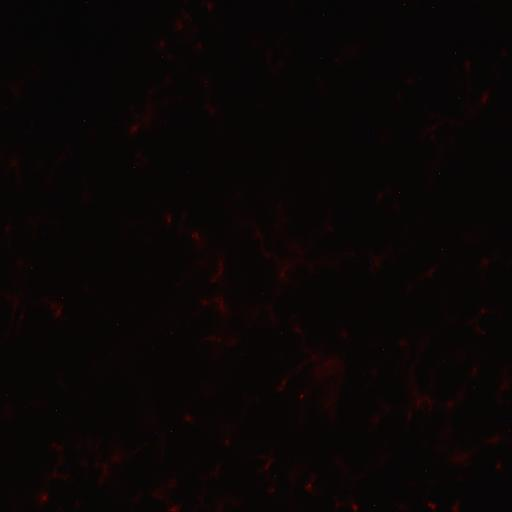microglia: (36, 442, 80, 502), (1, 62, 42, 107), (127, 90, 167, 136), (355, 241, 403, 279), (40, 142, 76, 188), (1, 290, 28, 340), (330, 38, 367, 70), (406, 261, 442, 289), (1, 152, 25, 193), (467, 306, 499, 335), (198, 293, 230, 320), (319, 352, 345, 384), (420, 118, 449, 144), (37, 294, 66, 320), (495, 366, 511, 408), (479, 431, 508, 454), (374, 184, 400, 209), (274, 259, 298, 286), (410, 393, 434, 416), (197, 333, 229, 349), (209, 256, 226, 286), (167, 492, 187, 512), (129, 149, 149, 168), (202, 97, 218, 118), (188, 228, 207, 244), (396, 328, 408, 352), (96, 464, 112, 480), (112, 449, 126, 467), (304, 473, 316, 491), (201, 73, 212, 89), (202, 0, 218, 11), (462, 56, 472, 72), (276, 378, 287, 391), (264, 457, 274, 471), (471, 363, 479, 377), (481, 90, 489, 103), (164, 213, 172, 224), (166, 53, 175, 62), (130, 125, 138, 135), (184, 413, 192, 423), (158, 40, 166, 49), (482, 257, 490, 266), (176, 20, 183, 29), (224, 438, 230, 445)
